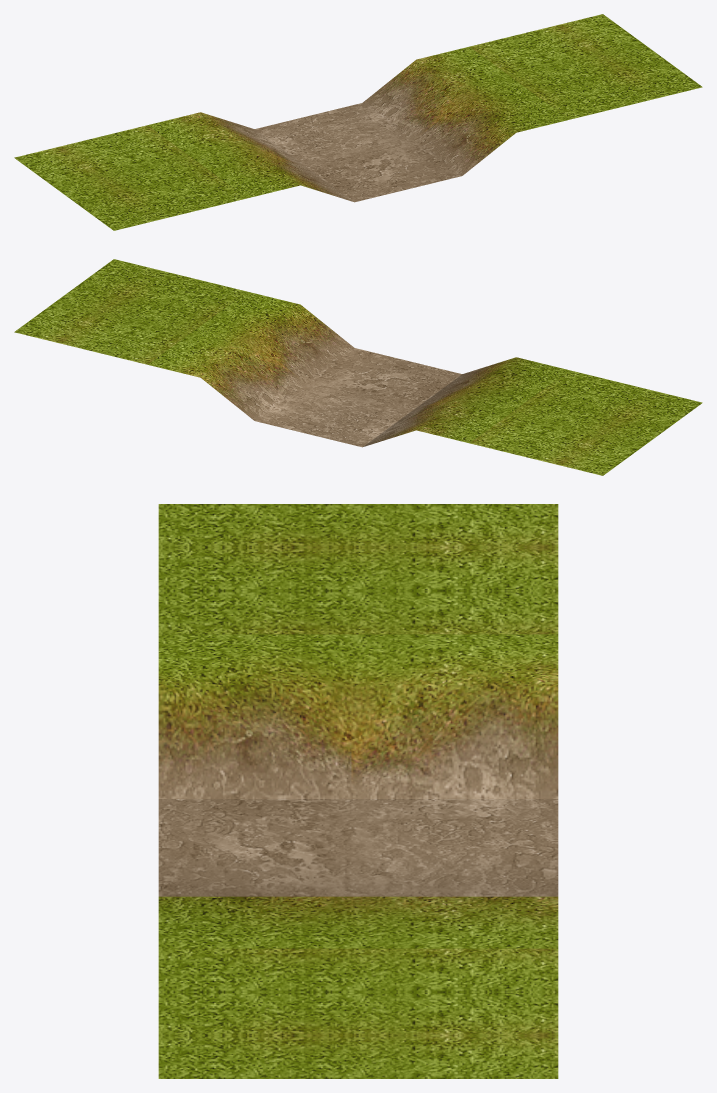
The model's file is FH_Env_Dibiao_05.FBX.
3 views of the same model, one above another, from view 1: azimuth 30°, elevation 25°; view 2: azimuth 150°, elevation 25°; view 3: azimuth 270°, elevation 25° (orthographic). The views are drawn at different scales.
Parts seen in each view (by area): view 1: Plane46; view 2: Plane46; view 3: Plane46.
Boxes of the visible parts, bbox=[...] form: Plane46: bbox=[14, 14, 702, 230]; Plane46: bbox=[14, 259, 702, 475]; Plane46: bbox=[158, 504, 558, 1078].
Size of the model in its own units: 34.01 by 1.66 by 10.
